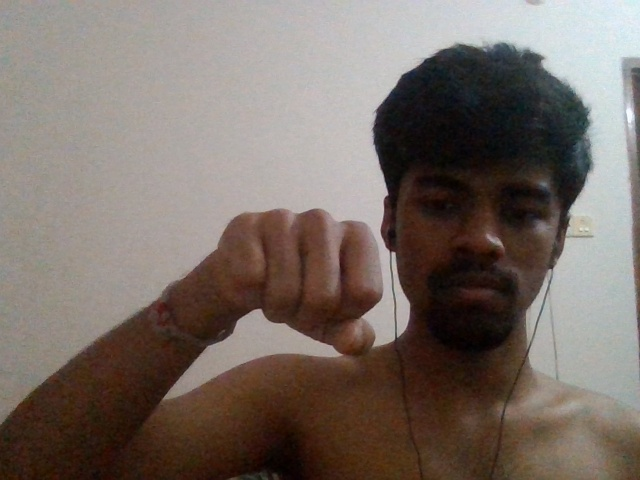Yes: (217, 204, 391, 372)
